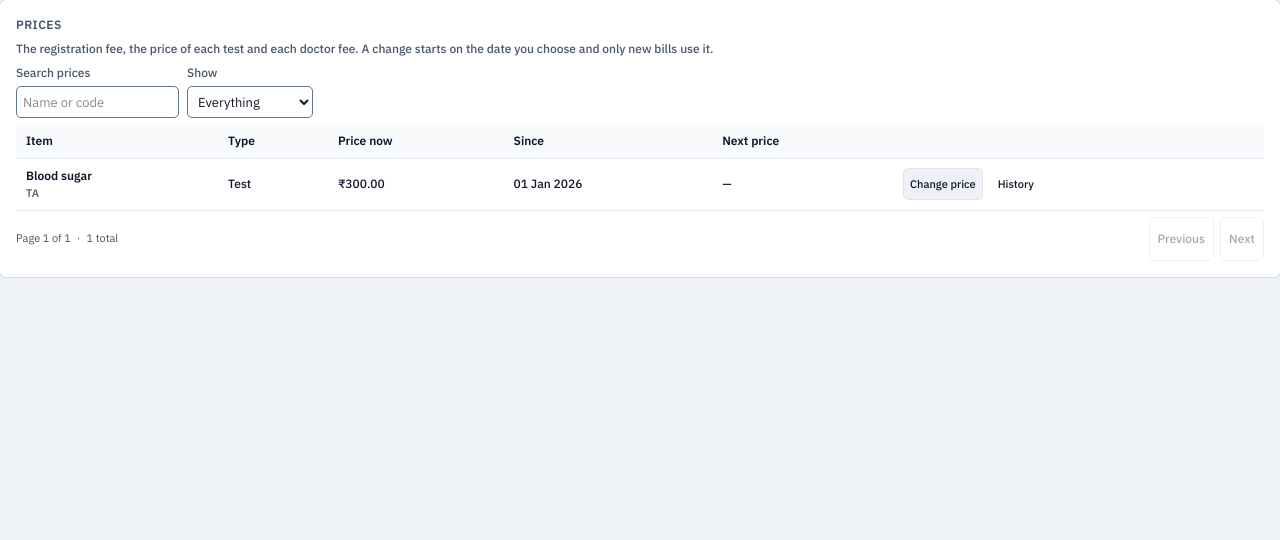
PricesScreen › tells in plain words why the server refused (date rules) and keeps the form open
This screenshot has width=1280, height=540.
Click the button "Change price": (943, 184) [903,168,983,200]
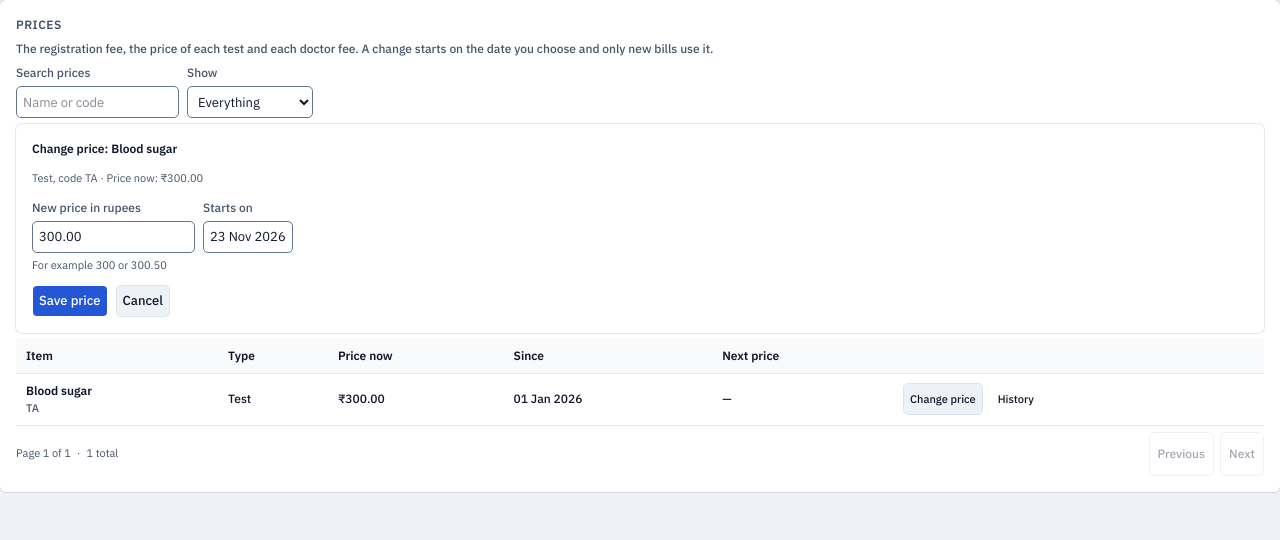
Click the button "Save price": (70, 301) [32,285,108,317]
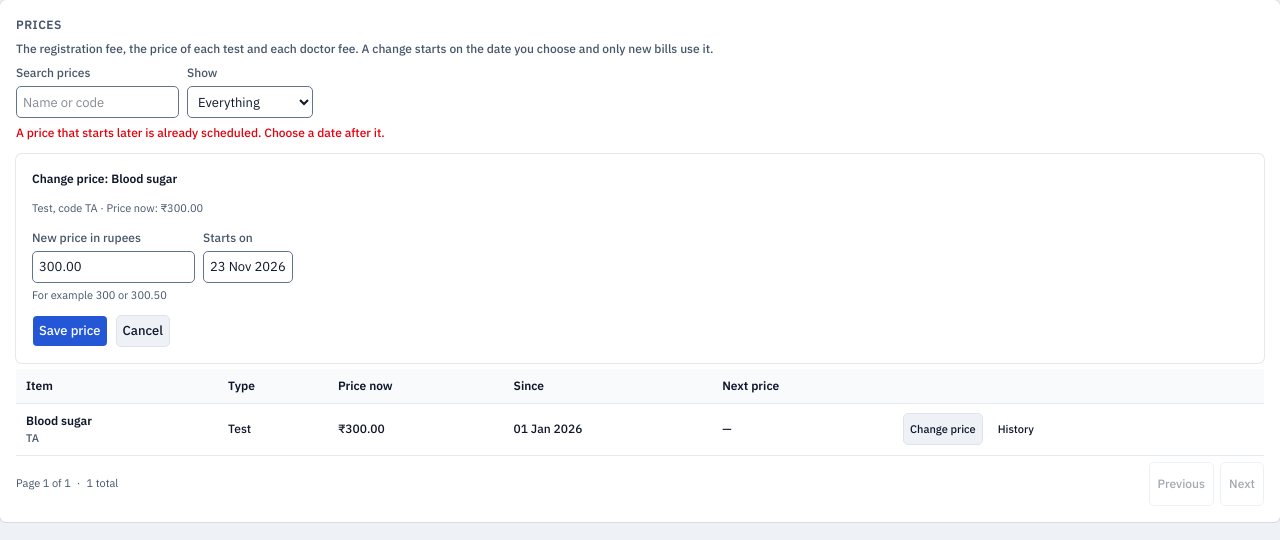
Expected: the field labelled "New price in rupees" is shown, [32,250,195,282]
Expected: the message reads "A price that starts later is already scheduled. Choose a date after it.", [16,125,385,140]
